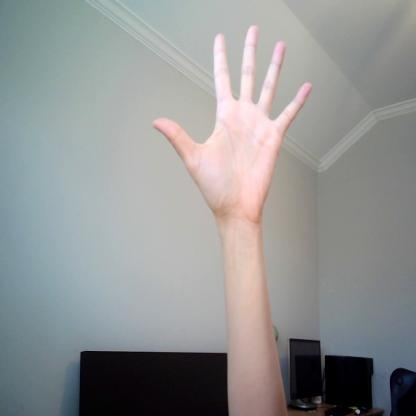five: (149, 22, 314, 224)
